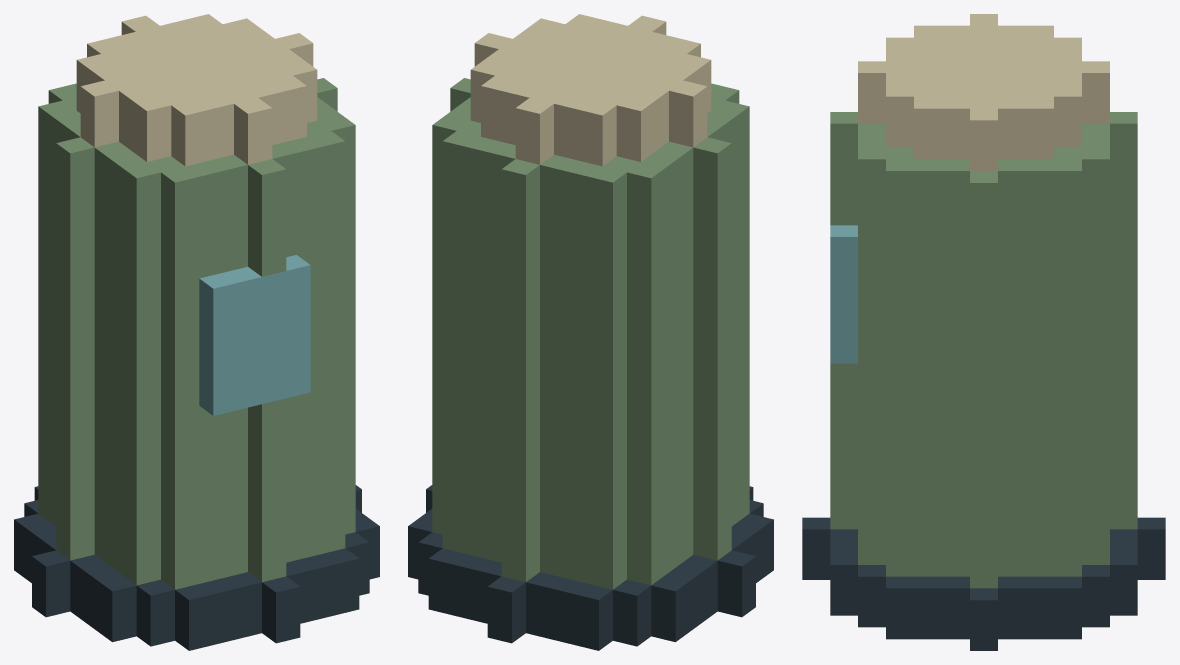
The model's file is climate-07.glb.
The picture shows the model from 3 angles, left to right: view 1: azimuth 30°, elevation 25°; view 2: azimuth 150°, elevation 25°; view 3: azimuth 270°, elevation 25°; orthographic projection.
Visible parts, largest first — view 1: Rain barrel; view 2: Rain barrel; view 3: Rain barrel.
Part boxes in pixels (<box>): Rain barrel: <box>14,14,379,650</box>; Rain barrel: <box>408,14,773,650</box>; Rain barrel: <box>802,14,1165,650</box>.
Bounding box in the file's own units: 1.04 × 1.6 × 1.04.
